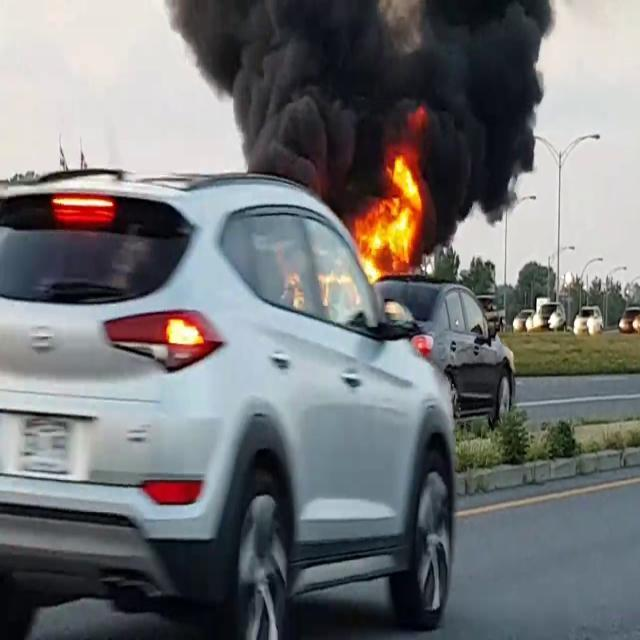Fire: (352, 144, 428, 282), (160, 310, 207, 351)
Smoke: (177, 0, 558, 215)
